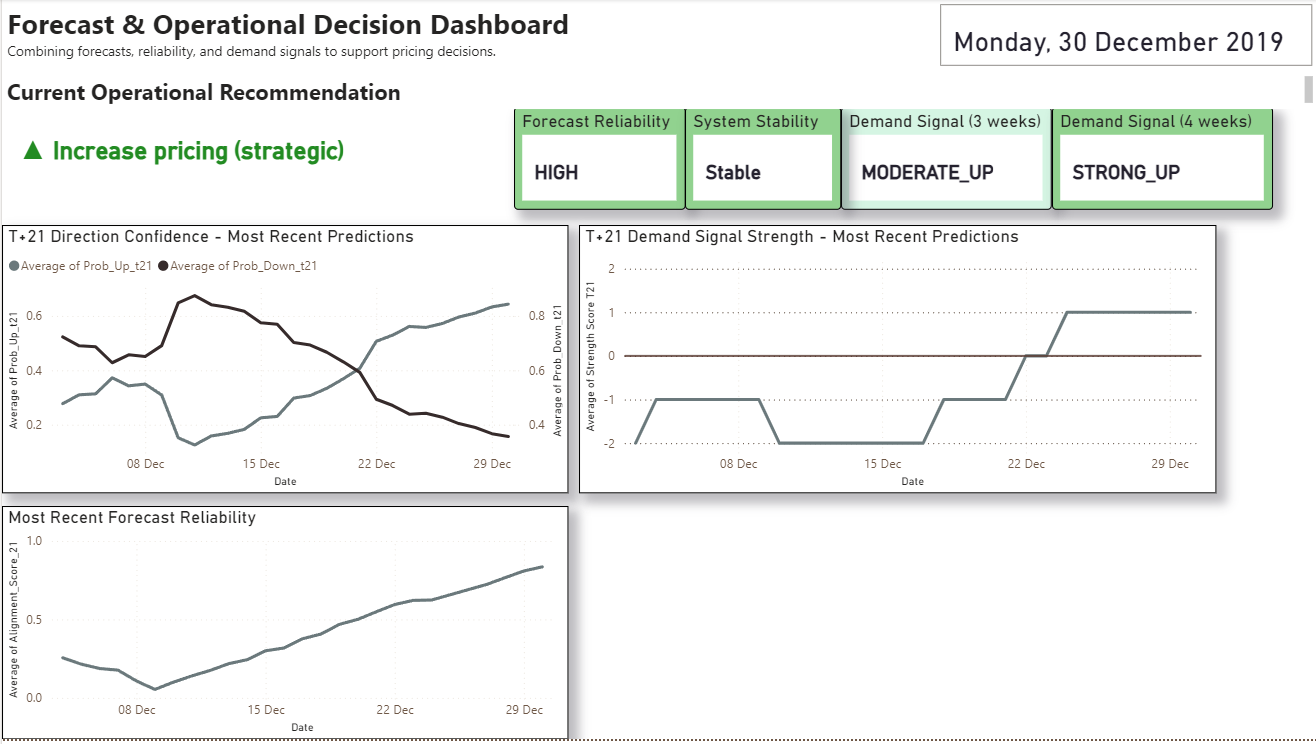

The page's visual inventory and layout, read from the dashboard file:
{"tool":"powerbi","page":{"name":"Operational Decision Dashboard","canvas":[1280,720],"ordinal":1},"visuals":[{"type":"textbox","box":[0,0,574.8,70],"z":0},{"type":"cardVisual","title":"As of:","fields":{"Data":["DailyMeasures.Latest Date"]},"box":[907.5,0,372.5,70],"z":1000},{"type":"cardVisual","title":"Recommended Action","fields":{"Data":["MeasuresPrediction.Action Display"]},"box":[0,100,355.7,85.9],"z":1000,"group":"g1"},{"type":"group","id":"g1","title":"Group 1","box":[0,70,1280,134.9],"z":2000},{"type":"cardVisual","title":"Demand Signal (3 weeks)","fields":{"Data":["MeasuresPrediction.Latest Strength T21"]},"box":[816.4,105,204.8,99.9],"z":2000,"group":"g1"},{"type":"cardVisual","title":"Forecast Reliability","fields":{"Data":["MeasuresPrediction.Latest Alignment"]},"box":[497.6,105,166.9,99.9],"z":3000,"group":"g1"},{"type":"lineChart","title":"T+21 Direction Confidence - Most Recent Predictions","fields":{"Category":["PredictionData.Date.Variation.Date Hierarchy.Quarter"],"Y2":["Avg(PredictionData.Prob_Down_t21)"],"Y":["Avg(PredictionData.Prob_Up_t21)"]},"box":[0,219.8,551.5,260.7],"z":3000},{"type":"cardVisual","title":"System Stability","fields":{"Data":["MeasuresPrediction.Latest Guardrail Label"]},"box":[664.5,105,151.9,99.9],"z":4000,"group":"g1"},{"type":"lineChart","title":"T+21 Demand Signal Strength - Most Recent Predictions","fields":{"Category":["PredictionData.Date.Variation.Date Hierarchy.Year"],"Y":["Avg(PredictionData.Strength Score T21)"]},"box":[561.2,219.8,619.6,260.7],"z":4000},{"type":"cardVisual","title":"Demand Signal (4 weeks)","fields":{"Data":["MeasuresPrediction.Latest Strength T28"]},"box":[1021.2,105,214.8,99.9],"z":5000,"group":"g1"},{"type":"lineChart","title":"Most Recent Forecast Reliability","fields":{"Category":["PredictionData.Date.Variation.Date Hierarchy.Year"],"Y":["Avg(PredictionData.Alignment_Score_21)"]},"box":[0,493.1,550.5,226.6],"z":5000},{"type":"textbox","box":[0,70,1280,37],"z":5500,"group":"g1"}]}

Visuals, with their boxes in screenshot pixels (x1, y1, x2, y2), scaled from the page's 1280x720 canvas onto the 1316x744 screenshot:
textbox: l=0, t=0, r=591, b=72
"As of:" cardVisual: l=933, t=0, r=1315, b=72
"Recommended Action" cardVisual: l=0, t=103, r=366, b=192
"Group 1" group: l=0, t=72, r=1315, b=212
"Demand Signal (3 weeks)" cardVisual: l=839, t=109, r=1050, b=212
"Forecast Reliability" cardVisual: l=512, t=109, r=683, b=212
"T+21 Direction Confidence - Most Recent Predictions" lineChart: l=0, t=227, r=567, b=497
"System Stability" cardVisual: l=683, t=109, r=839, b=212
"T+21 Demand Signal Strength - Most Recent Predictions" lineChart: l=577, t=227, r=1214, b=497
"Demand Signal (4 weeks)" cardVisual: l=1050, t=109, r=1271, b=212
"Most Recent Forecast Reliability" lineChart: l=0, t=510, r=566, b=743
textbox: l=0, t=72, r=1315, b=111
